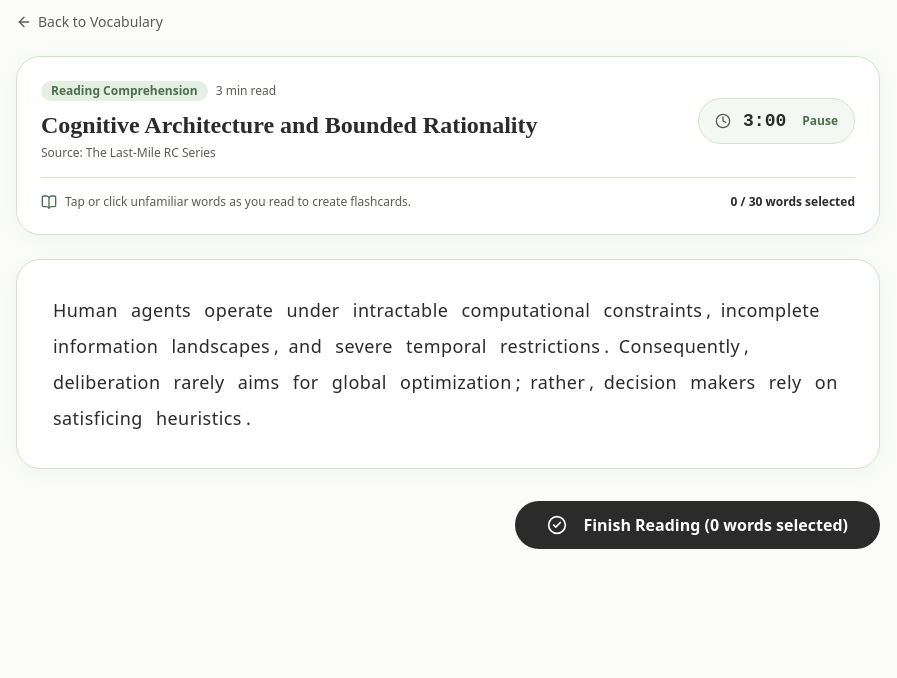
Milestone M8: Words and Passage Reading Screens › renders PassageSessionPage, allows word selection, and completes reading session
Expected: the heading "Cognitive Architecture and Bounded Rationality" is shown, [41,109,538,141]
Expected: the text "3:00" is shown, [743,107,786,135]
// Click on words to select them
Click the button "intractable": {"x": 401, "y": 310} [349,292,452,328]
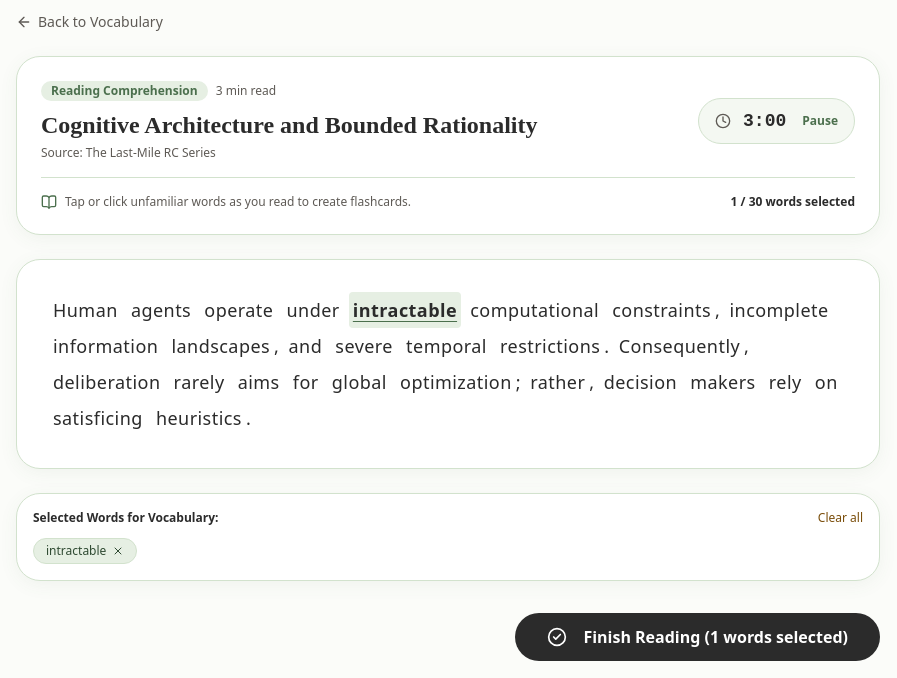
Expected: the text "1 / 30 words selected" is shown, [731,194,855,210]
Click the button "Finish Reading (1 words selected)": {"x": 698, "y": 637} [515,613,880,661]
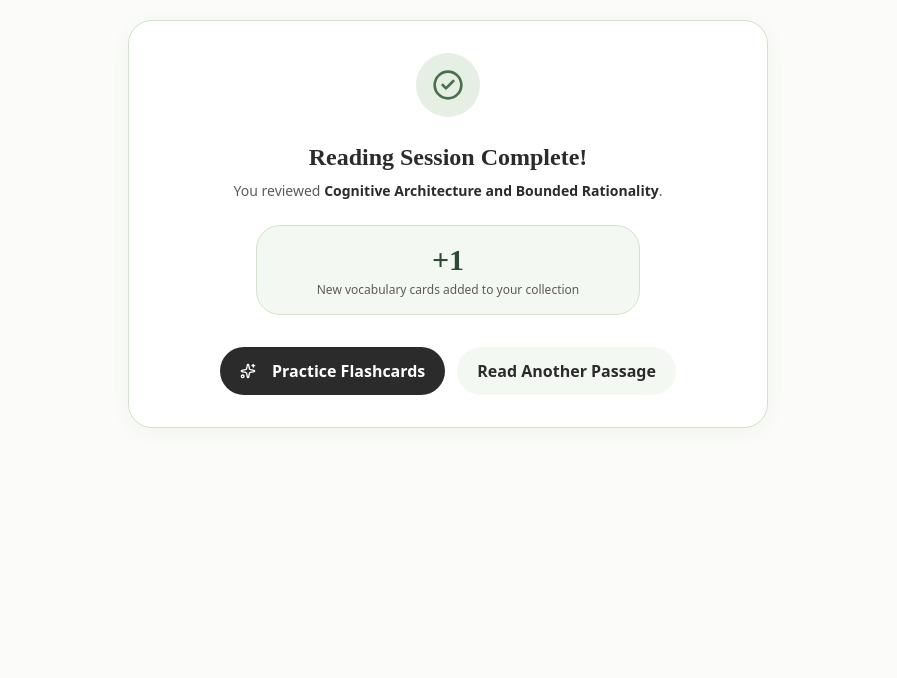
Expected: the heading "Reading Session Complete!" is shown, [309,144,587,170]
